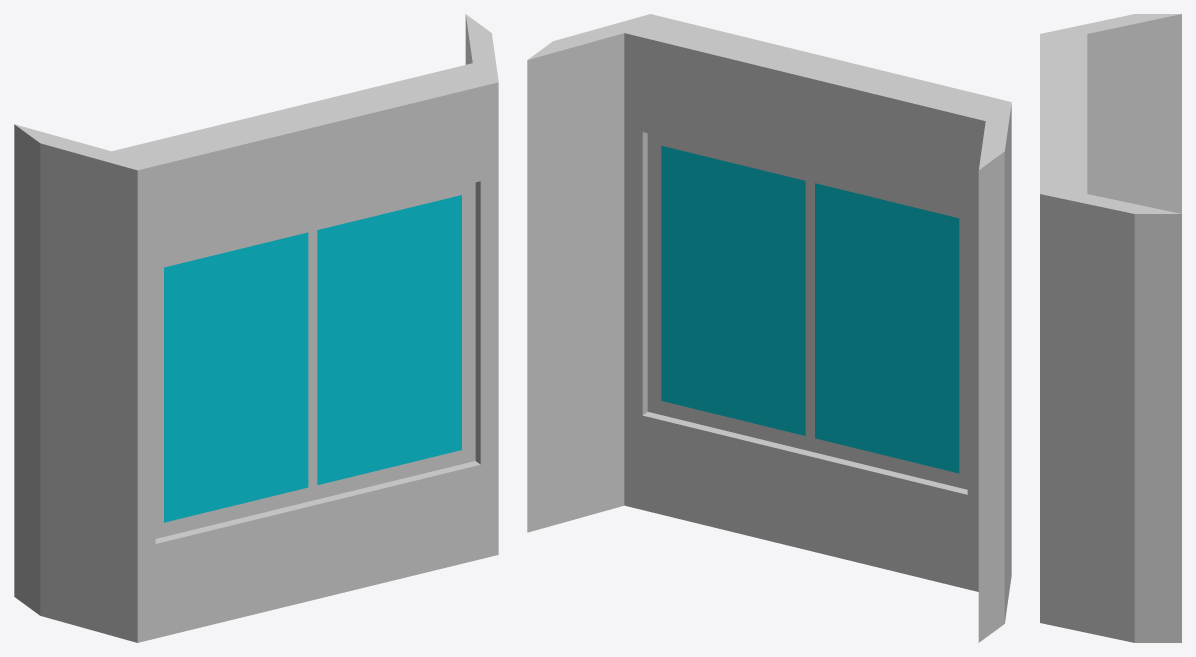
Rendered from window_bay_7.glb.
The picture shows the model from 3 angles, left to right: view 1: azimuth 30°, elevation 25°; view 2: azimuth 150°, elevation 25°; view 3: azimuth 270°, elevation 25°; orthographic projection. The views are drawn at different scales.
Visible parts, largest first — view 1: window_bay_7; view 2: window_bay_7; view 3: window_bay_7.
Boxes of the visible parts, box(x1,y1,x2,y2) form: window_bay_7: box(14, 14, 498, 642); window_bay_7: box(527, 14, 1011, 642); window_bay_7: box(1040, 14, 1181, 642).
Size of the model in its own units: 1 by 1 by 0.3.
